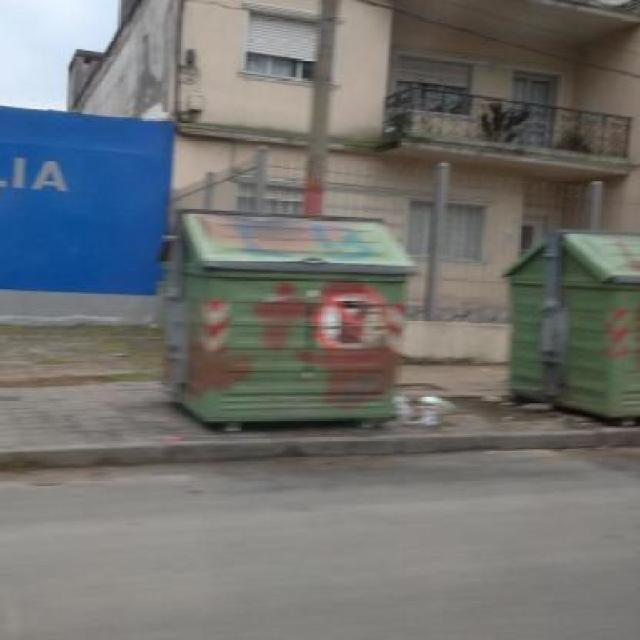garbage: (397, 389, 458, 436)
